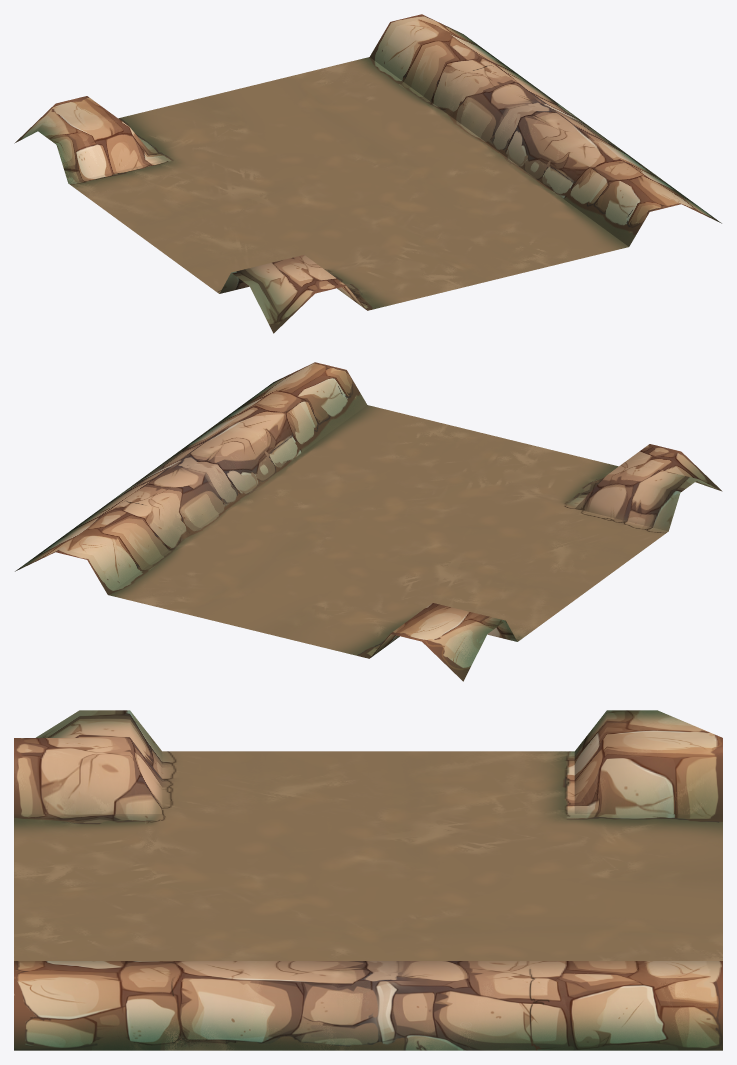
Rendered from m_StreetTile_straight_vertical.left_turn.fbx.
The picture shows the model from 3 angles, top to bottom: view 1: azimuth 30°, elevation 25°; view 2: azimuth 150°, elevation 25°; view 3: azimuth 270°, elevation 25°; orthographic projection. The views are drawn at different scales.
Visible parts, largest first — view 1: straight_vertical.left_turn; view 2: straight_vertical.left_turn; view 3: straight_vertical.left_turn.
Boxes of the visible parts, x1=… form: straight_vertical.left_turn: x1=14, y1=14, x2=721, y2=333; straight_vertical.left_turn: x1=15, y1=362, x2=722, y2=681; straight_vertical.left_turn: x1=14, y1=710, x2=722, y2=1050.
Bounding box in the file's own units: 800 × 51.12 × 800.
